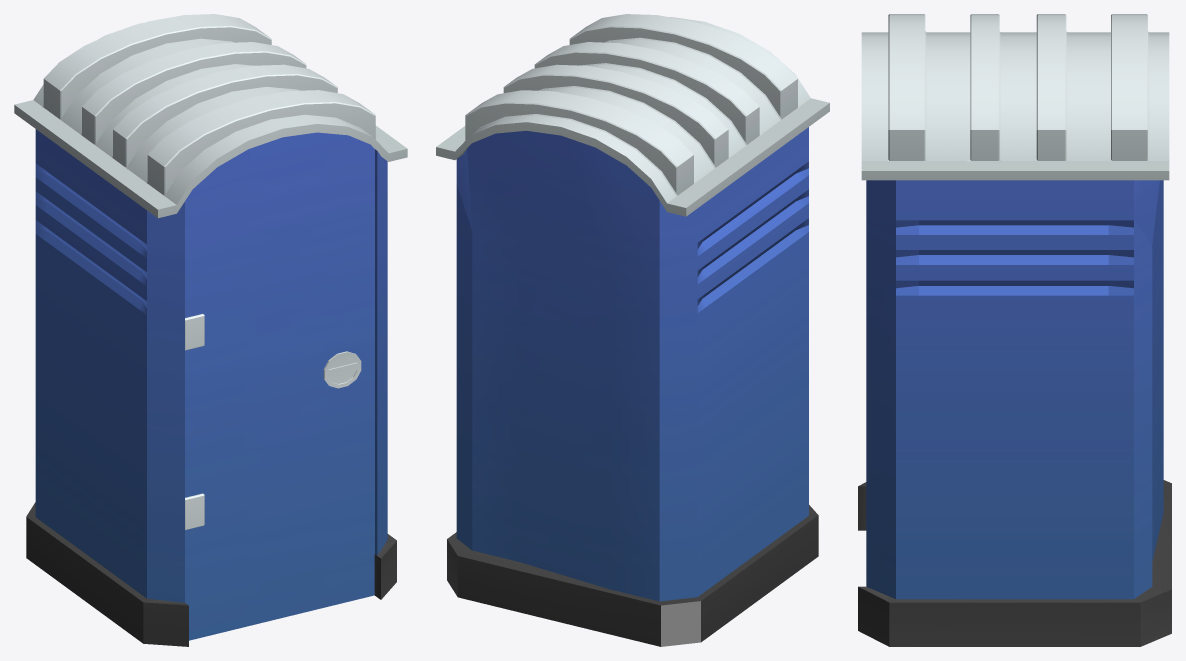
The model's file is SM_Exterior_BañoPortatil.fbx.
3 views of the same model, side by side, from view 1: azimuth 30°, elevation 25°; view 2: azimuth 150°, elevation 25°; view 3: azimuth 270°, elevation 25° (orthographic). The views are drawn at different scales.
Visible parts, largest first — view 1: SM_Exterior_BañoPortatil; view 2: SM_Exterior_BañoPortatil; view 3: SM_Exterior_BañoPortatil.
Part boxes in pixels (left/top/right/bottom): SM_Exterior_BañoPortatil: left=14, top=14, right=407, bottom=646; SM_Exterior_BañoPortatil: left=436, top=14, right=829, bottom=646; SM_Exterior_BañoPortatil: left=858, top=14, right=1171, bottom=646.
Size of the model in its own units: 238 by 451 by 238.
